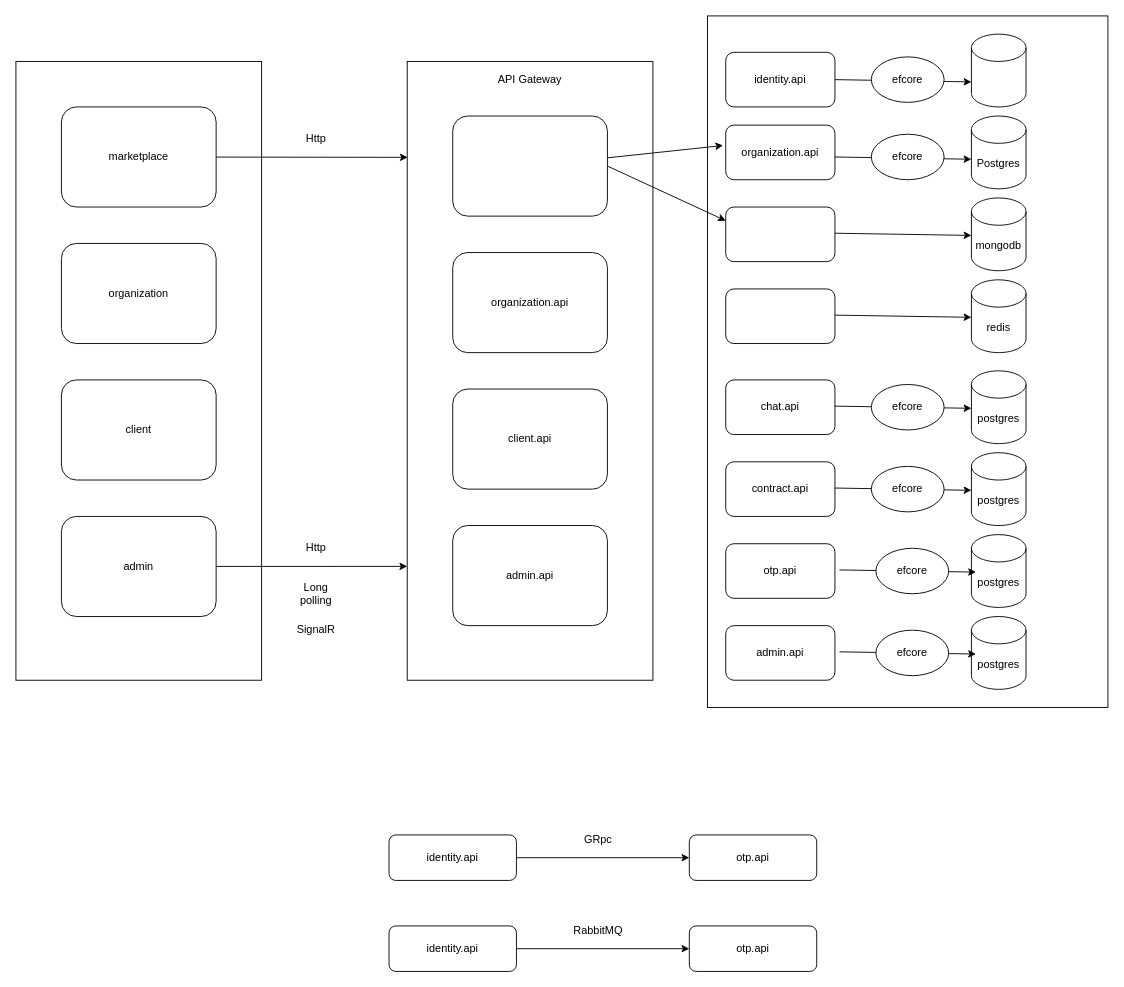
Image size: 1124x987. Some labels were removed from this diagram. Each missing label, with the centre of its shape:
"cart.api" goes at [780,316].
"marketplace.api" goes at [529,165].
"MSSQL" goes at [998,70].
"product.api" goes at [780,234].
